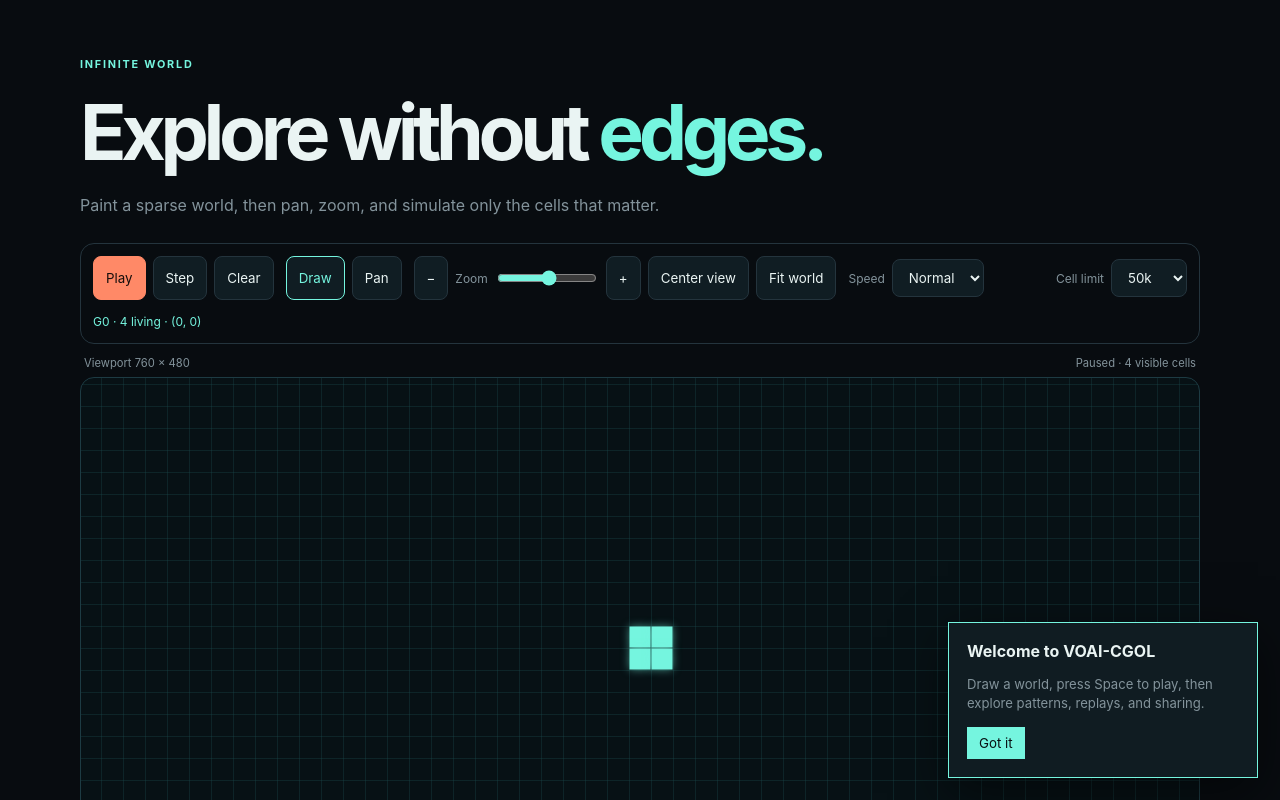
a still life pauses after one tick and remains stopped
Click the button "Play": (119, 278) [93, 256, 146, 300]
Wait 1250 ms
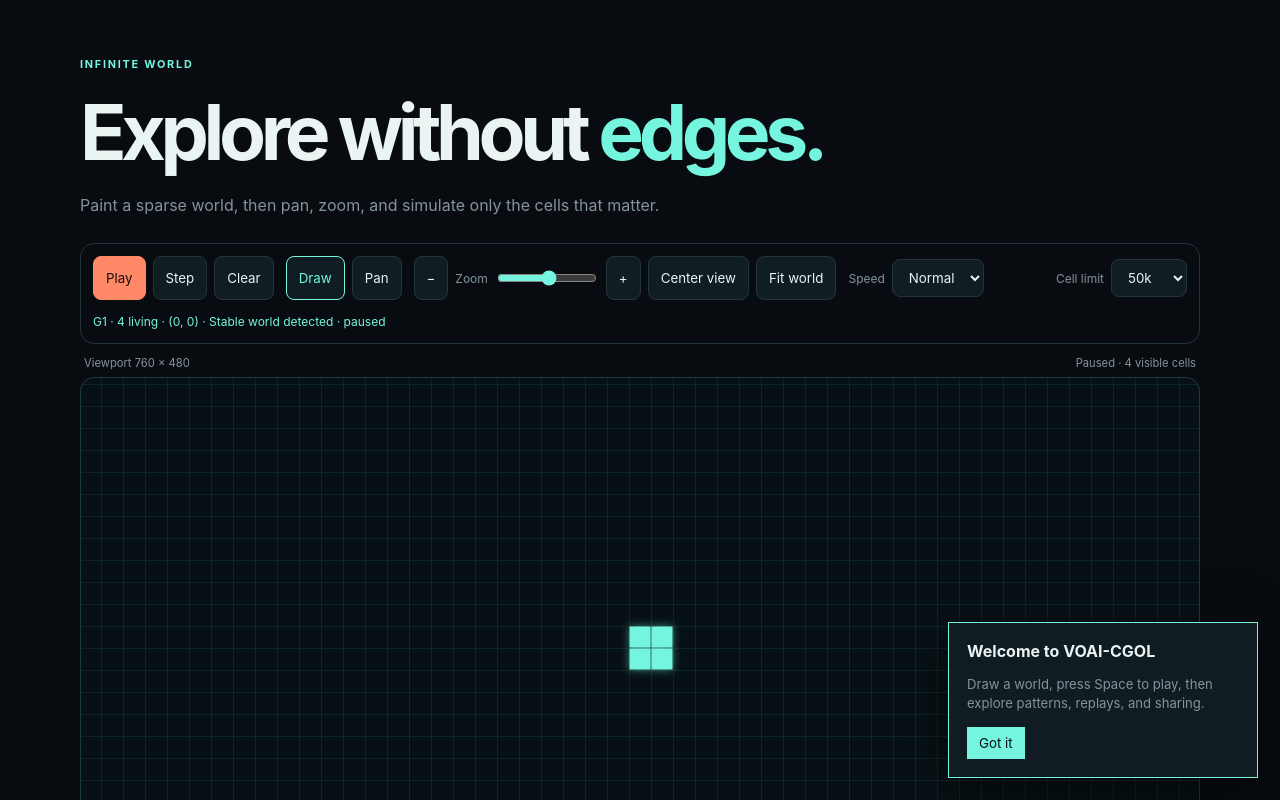
expect the text with class "worldReadout" shows "Stable world detected · paused": met, box [202, 314, 386, 329]
expect the text with class "worldReadout" shows "G1 ·": met, box [93, 314, 386, 329]
